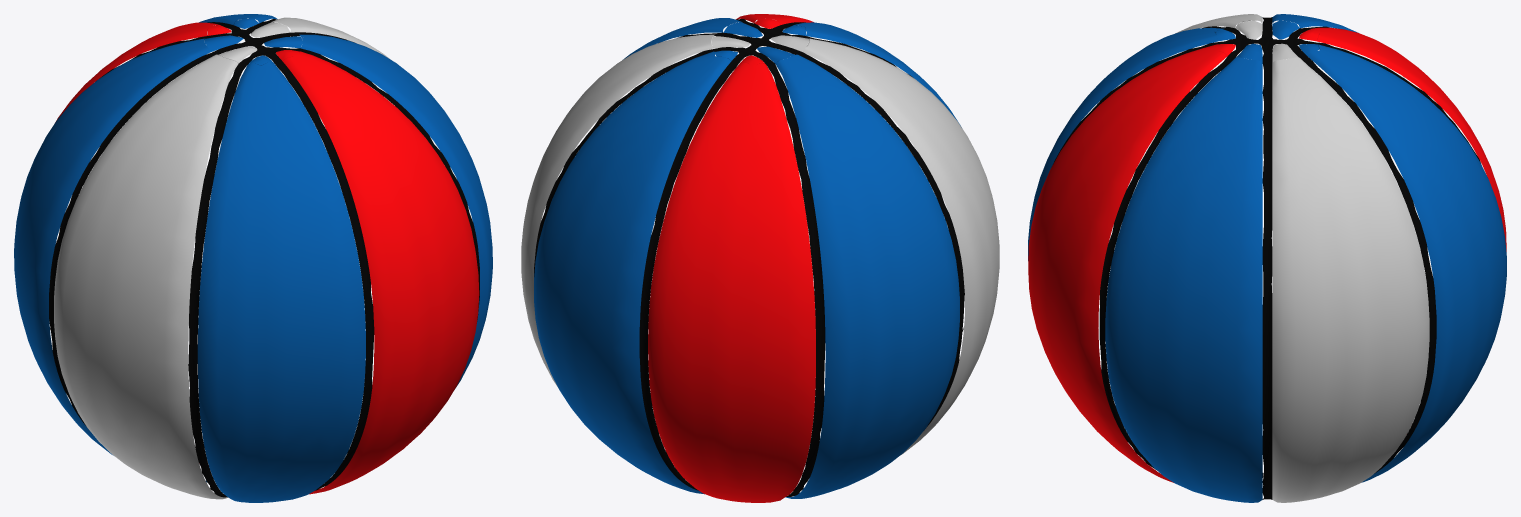
The model's file is Basketball.glb.
3 views of the same model, side by side, from view 1: azimuth 30°, elevation 25°; view 2: azimuth 150°, elevation 25°; view 3: azimuth 270°, elevation 25° (orthographic).
Visible parts, largest first — view 1: Basketball, Line; view 2: Basketball, Line; view 3: Basketball, Line.
Part boxes in pixels (x1=…): Basketball: x1=14, y1=14, x2=492, y2=502; Line: x1=49, y1=18, x2=479, y2=497; Basketball: x1=521, y1=14, x2=999, y2=502; Line: x1=534, y1=19, x2=964, y2=496; Basketball: x1=1028, y1=14, x2=1506, y2=502; Line: x1=1053, y1=17, x2=1481, y2=499.
Bounding box in the file's own units: 0.2357 × 0.2391 × 0.2358.
Materials: 1 (1 with a texture image).
